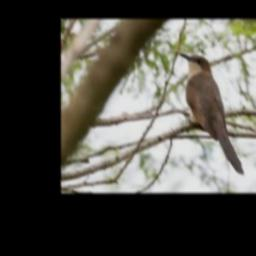Cuckoo: (180, 54, 244, 174)
